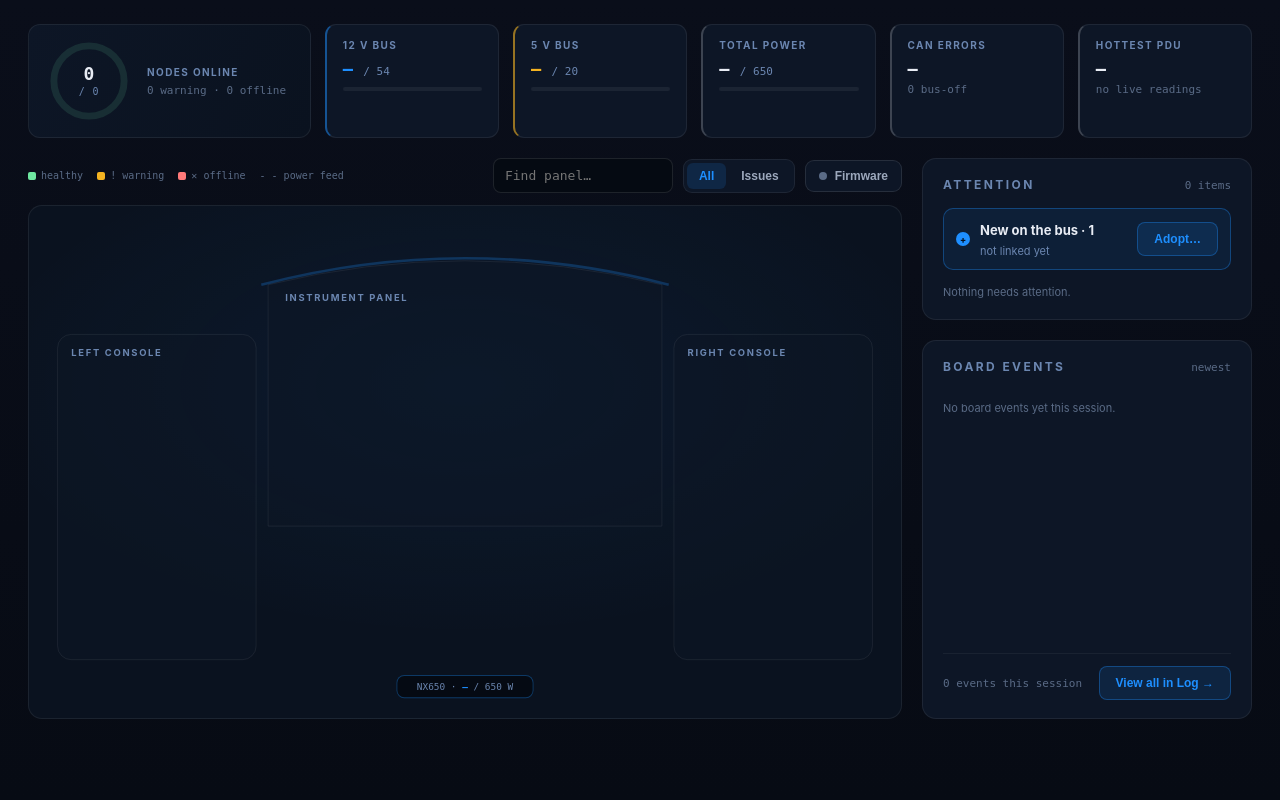
Test: T9 Cockpit "New on the bus" CTA (B68, F12, X7) › Adopt… opens the Adopt dialog on the first board in its queue
The width and height of the screenshot is (1280, 800).
Click the button "Adopt…" at x=1178, y=239, box [1137,222,1218,256]
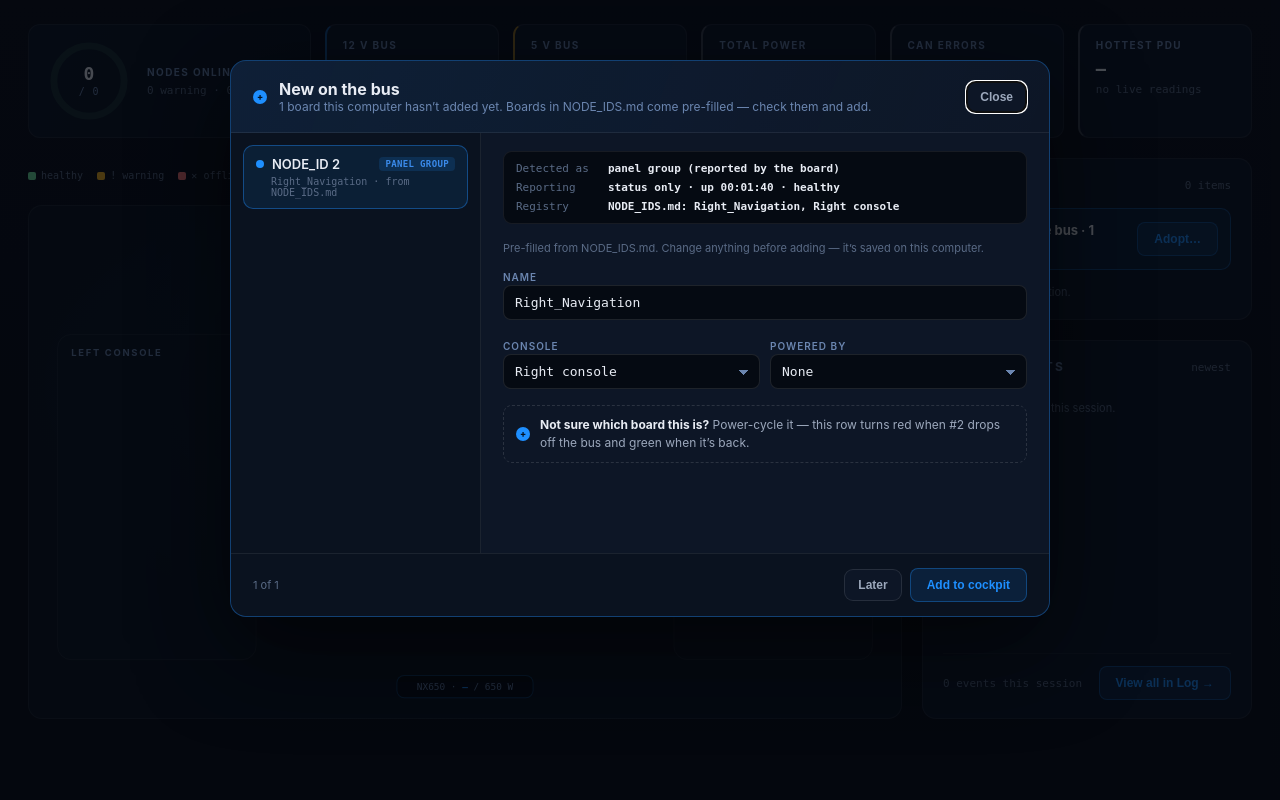
Check: the option shows "NODE_ID 2", box [243,145,468,209]
